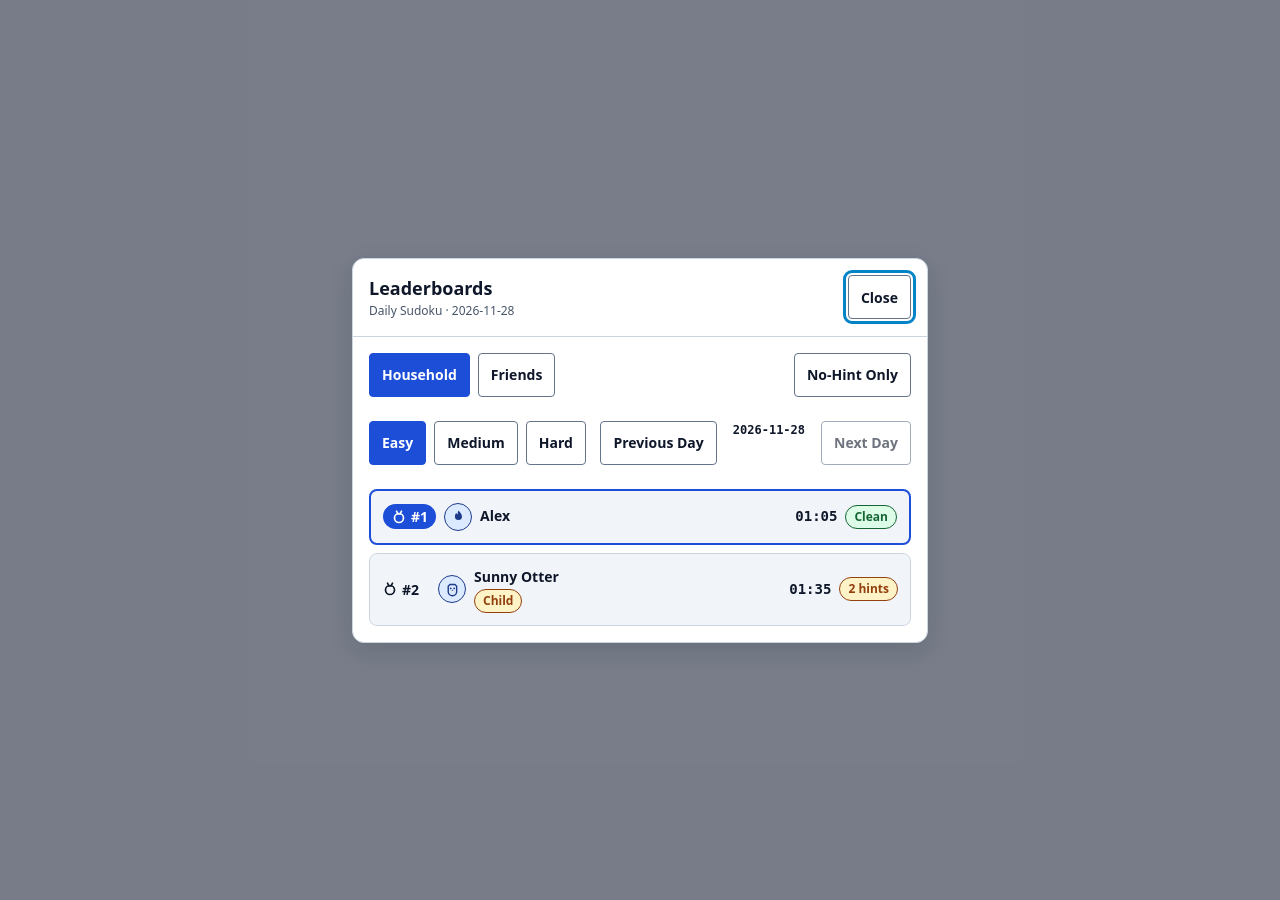
Test: LeaderboardModal & FamilyDailyCard › switches Household vs Friends tabs, toggles No-Hint Only, renders Clean vs hint badges without PII, and handles offline/signed-out states
This screenshot has width=1280, height=900.
Later steps or results of the test are not shown.
expect the text "Alex" is shown: met, box [480,505,510,526]
expect the text "Sunny Otter" is shown: met, box [474,566,559,586]
// Switch to Friends tab and toggle No-Hint Only
Click the tab "Friends" at (517, 374), box [478,352,555,396]
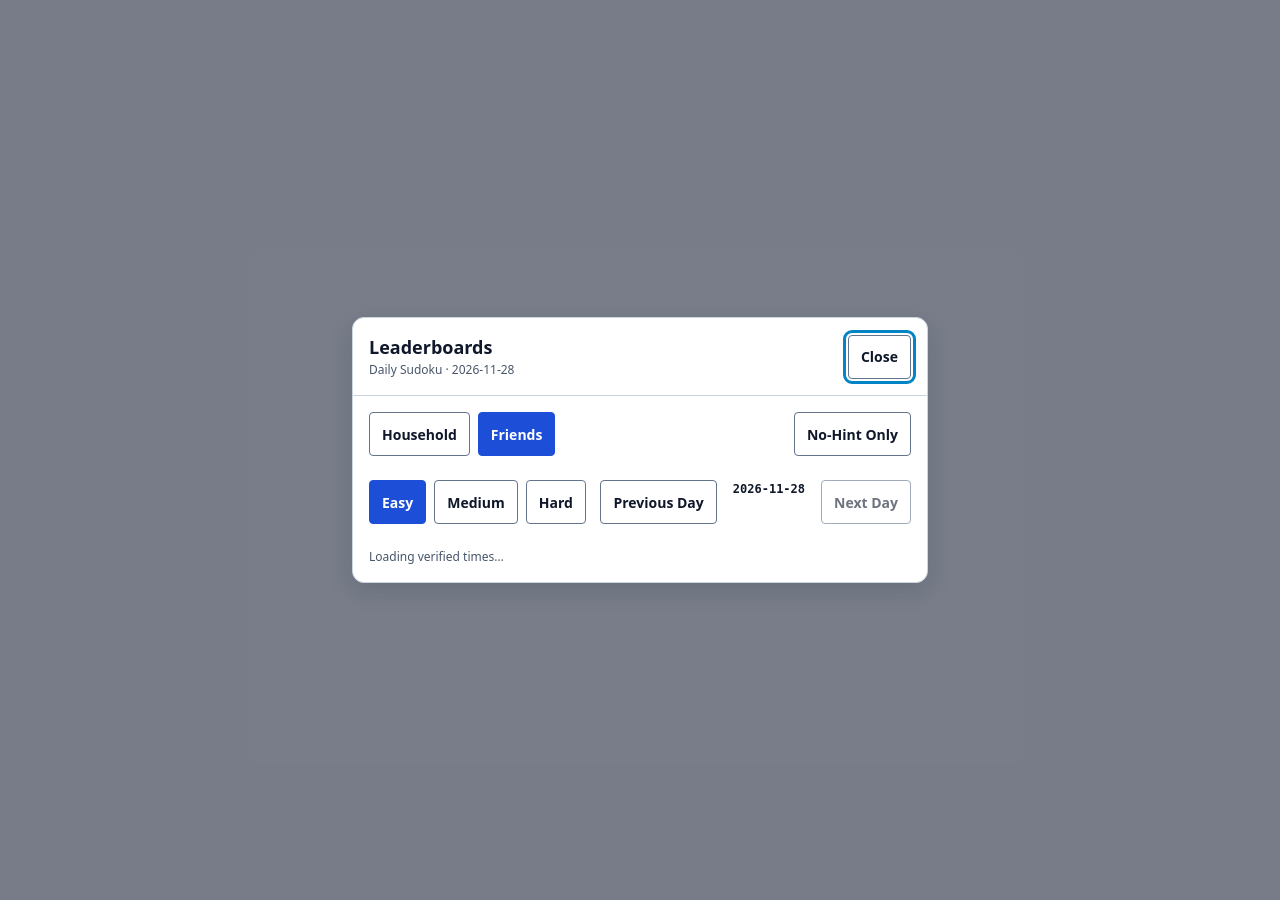
Click the button "No-Hint Only" at (852, 434), box [794,412,911,456]
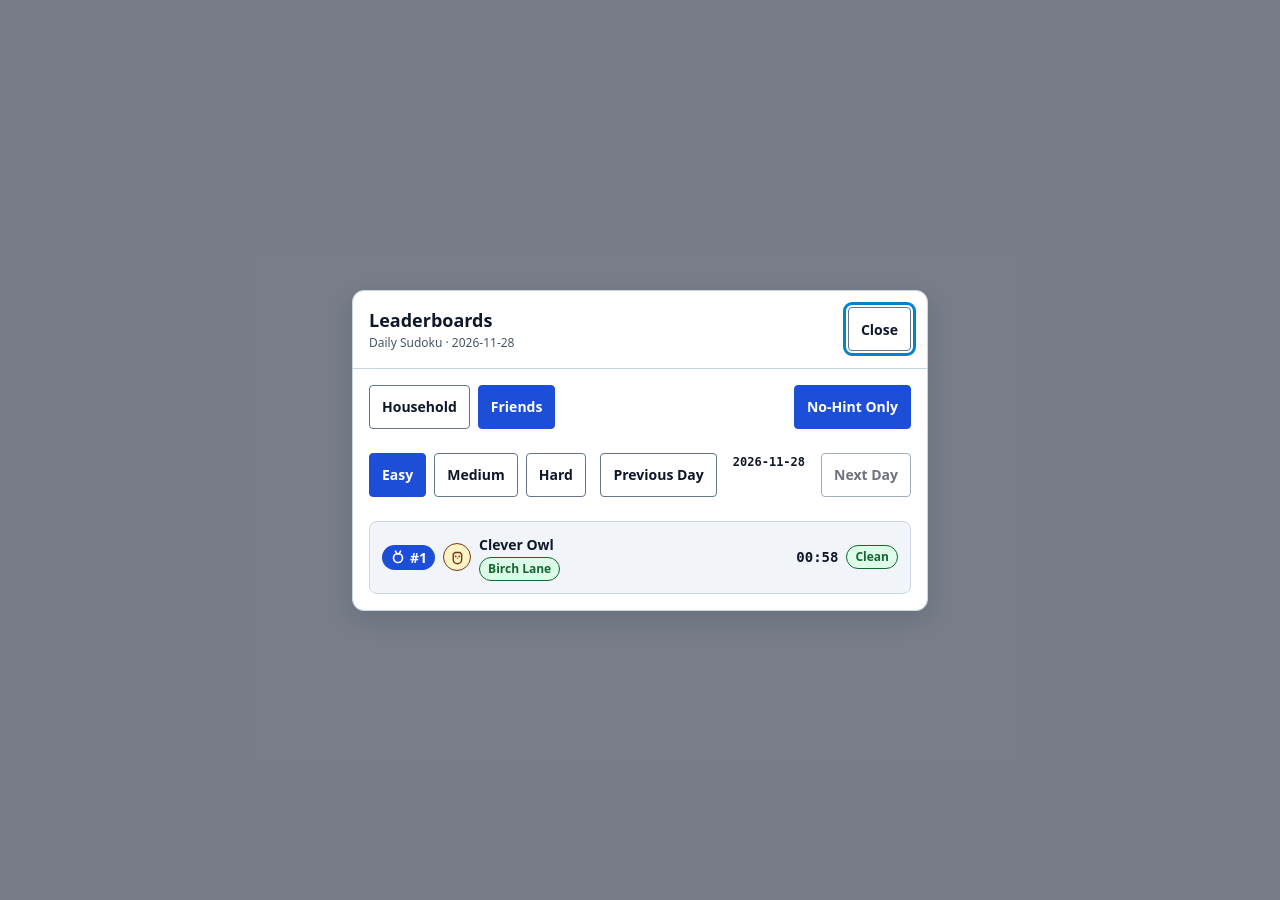
expect the text "Clever Owl" is shown: met, box [479,534,560,554]
expect the text "Birch Lane" is shown: met, box [479,556,560,580]
